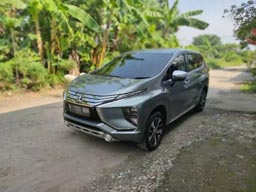plat: (66, 104, 89, 117)
